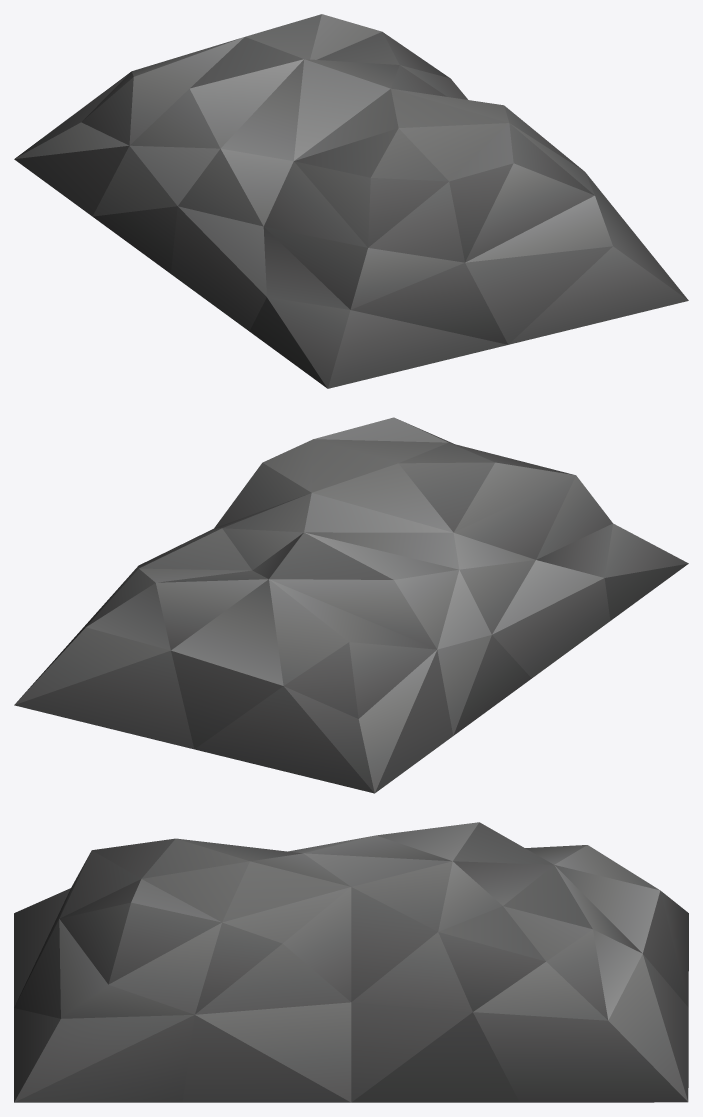
The model's file is Cargo_Coal.fbx.
3 views of the same model, one above another, from view 1: azimuth 30°, elevation 25°; view 2: azimuth 150°, elevation 25°; view 3: azimuth 270°, elevation 25° (orthographic). The views are drawn at different scales.
Parts seen in each view (by area): view 1: Cargo_Coal; view 2: Cargo_Coal; view 3: Cargo_Coal.
Part boxes in pixels (<box>): Cargo_Coal: <box>14,14,688,388</box>; Cargo_Coal: <box>14,417,688,793</box>; Cargo_Coal: <box>14,822,688,1102</box>.
Size of the model in its own units: 286 by 103 by 431.
